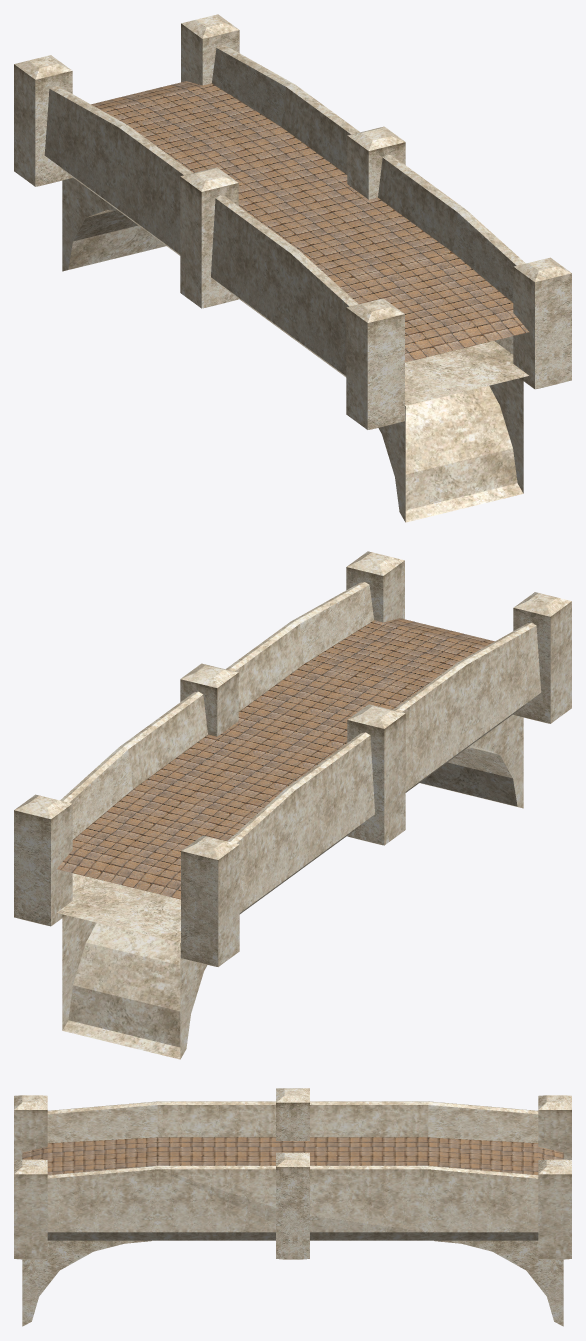
The model's file is thm_tato_imprv_bridge_sml_s02_l1.fbx.
The picture shows the model from 3 angles, top to bottom: view 1: azimuth 30°, elevation 25°; view 2: azimuth 150°, elevation 25°; view 3: azimuth 270°, elevation 25°; orthographic projection. The views are drawn at different scales.
Visible parts, largest first — view 1: mesh_node; view 2: mesh_node; view 3: mesh_node.
Part boxes in pixels (<box>): mesh_node: <box>14,14,571,522</box>; mesh_node: <box>14,551,571,1059</box>; mesh_node: <box>14,1088,571,1326</box>.
Size of the model in its own units: 5.5 by 5.86 by 16.5.
